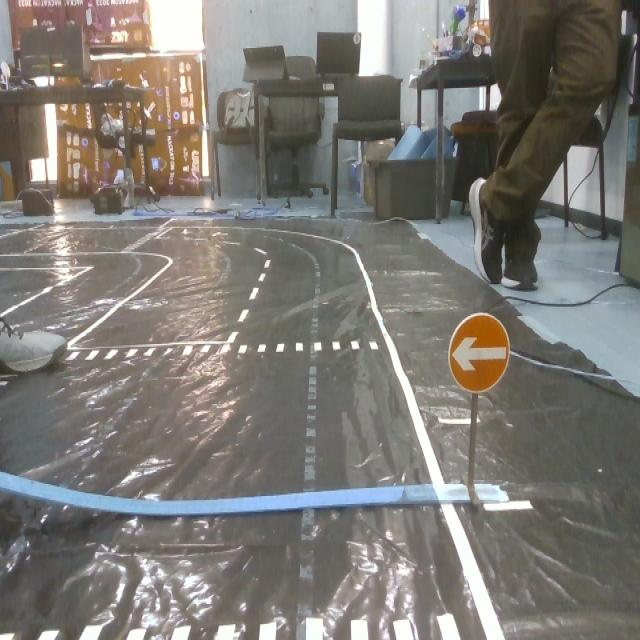forward: (444, 311, 509, 393)
